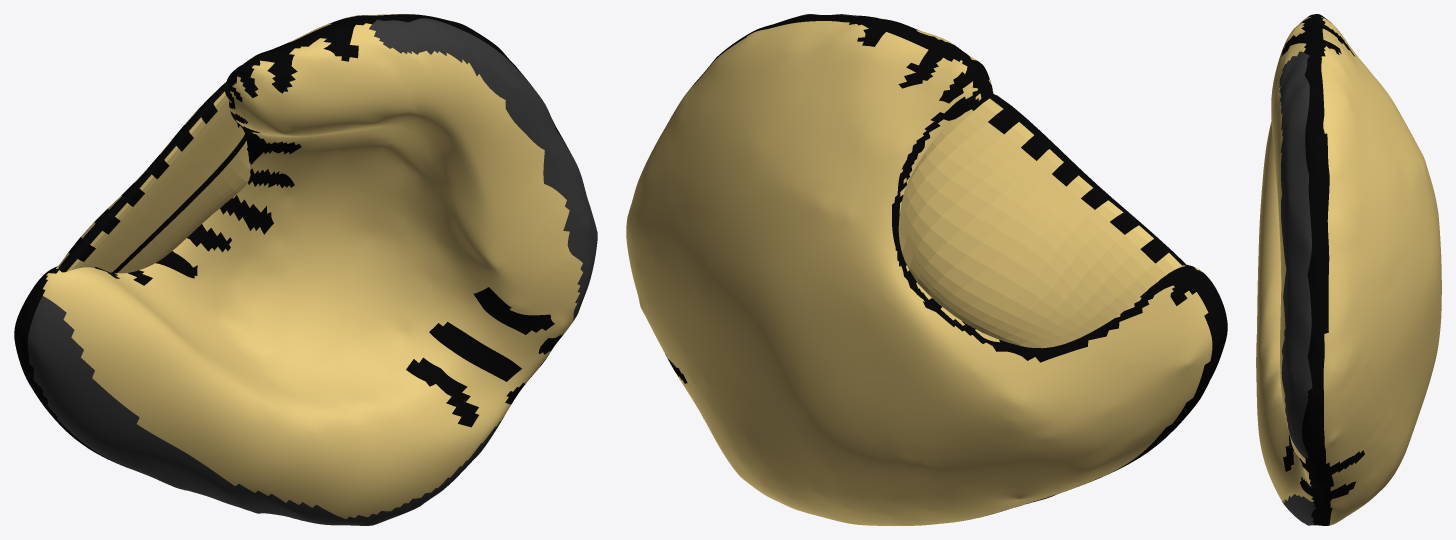
Rendered from Mit High Poly.fbx.
The picture shows the model from 3 angles, left to right: view 1: azimuth 30°, elevation 25°; view 2: azimuth 150°, elevation 25°; view 3: azimuth 270°, elevation 25°; orthographic projection. The views are drawn at different scales.
Parts seen in each view (by area): view 1: Cube; view 2: Cube; view 3: Cube.
Part boxes in pixels (x1,y1,x2,y2): Cube: [14, 14, 597, 525]; Cube: [626, 14, 1227, 525]; Cube: [1256, 14, 1441, 525].
Bounding box in the file's own units: 1248 × 1026 × 379.
